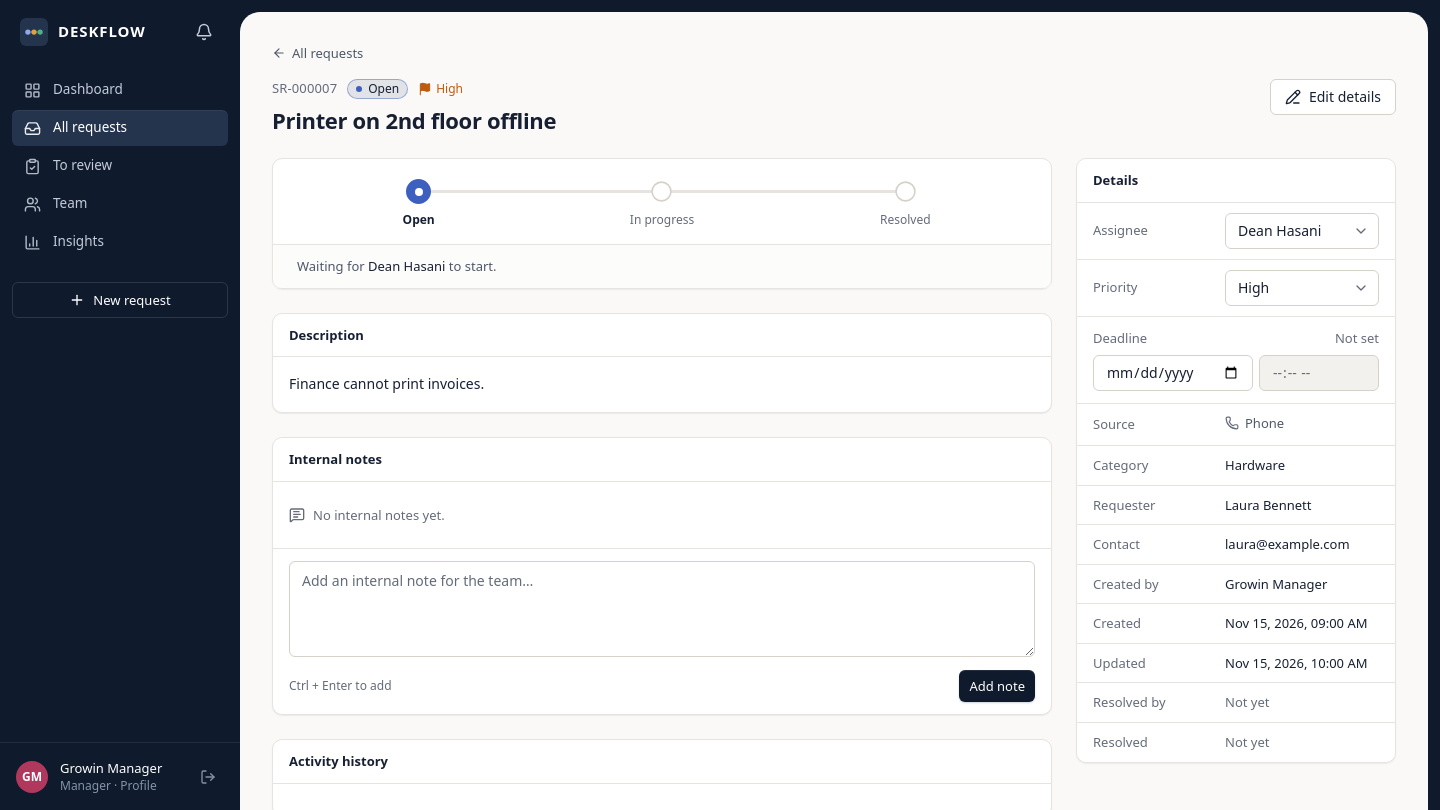
Test: request details › rejects an empty note and adds a valid one
Click the button "Add note": (997, 686) [959,670,1035,702]
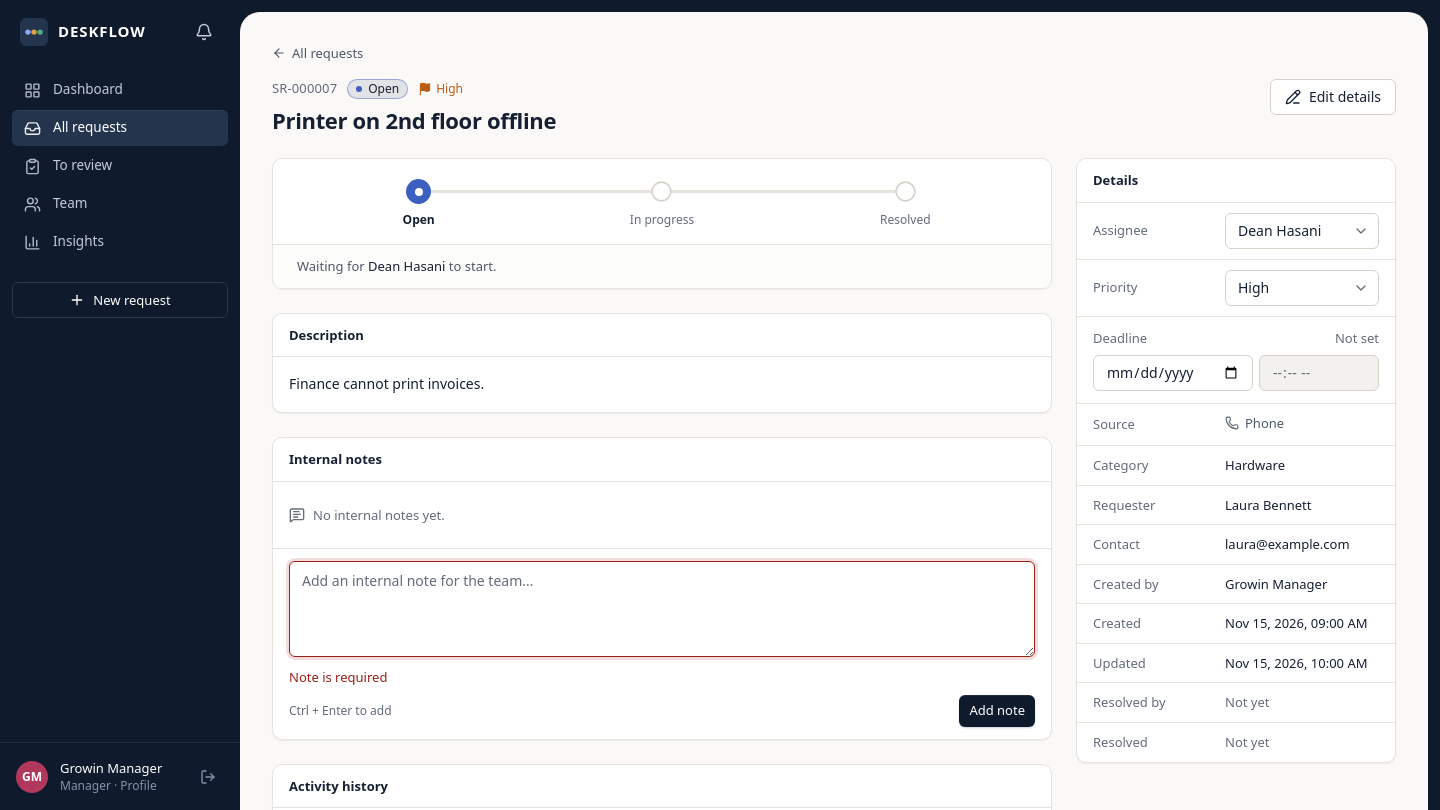
Check: the text "Note is required" is shown, box [289,668,387,686]
In the text box labelled "Add an internal note": (662, 609) [289,561,1035,657], type "Called the requester back."
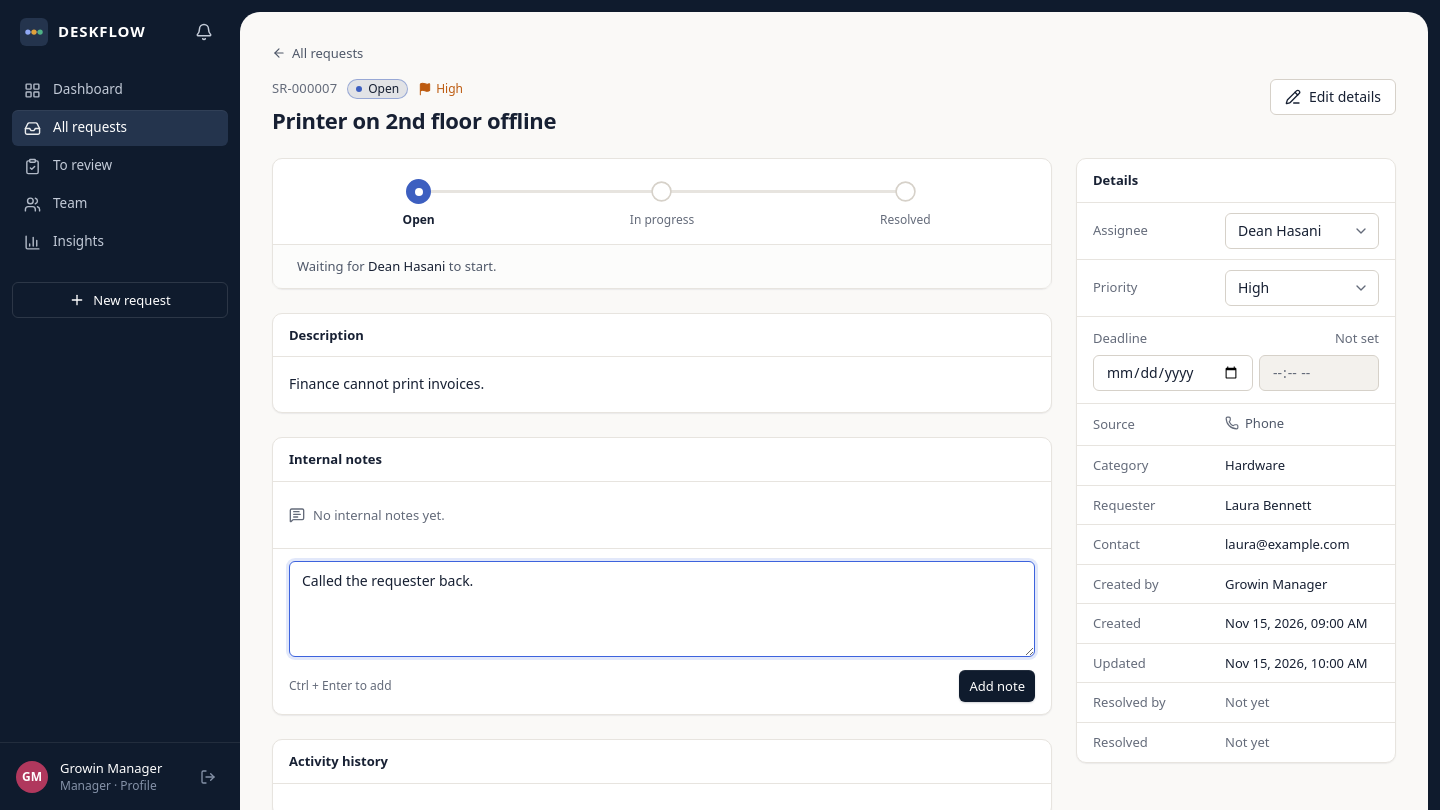
Click the button "Add note": (997, 686) [959,670,1035,702]
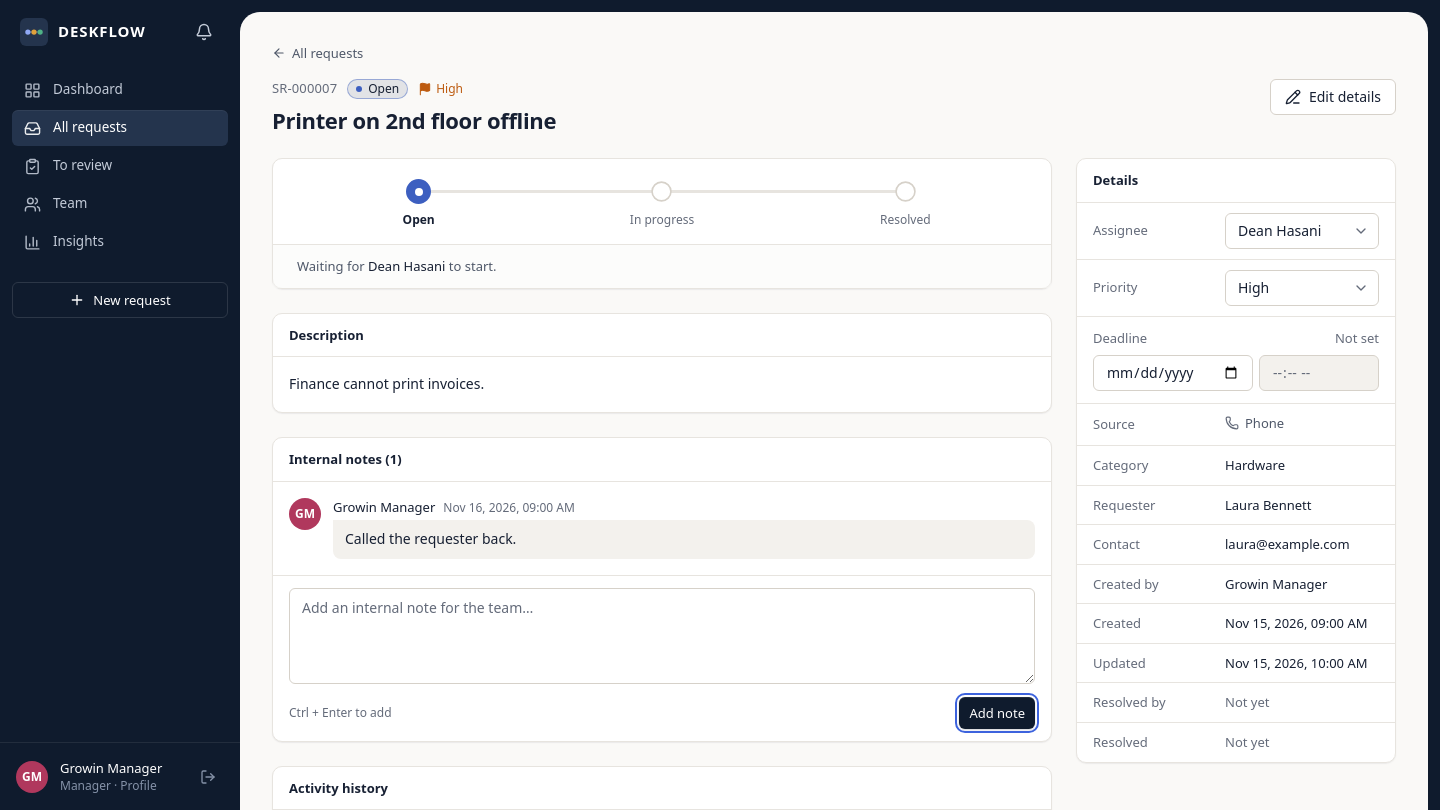
Check: the text "Called the requester back." is shown, box [333,520,1035,559]
